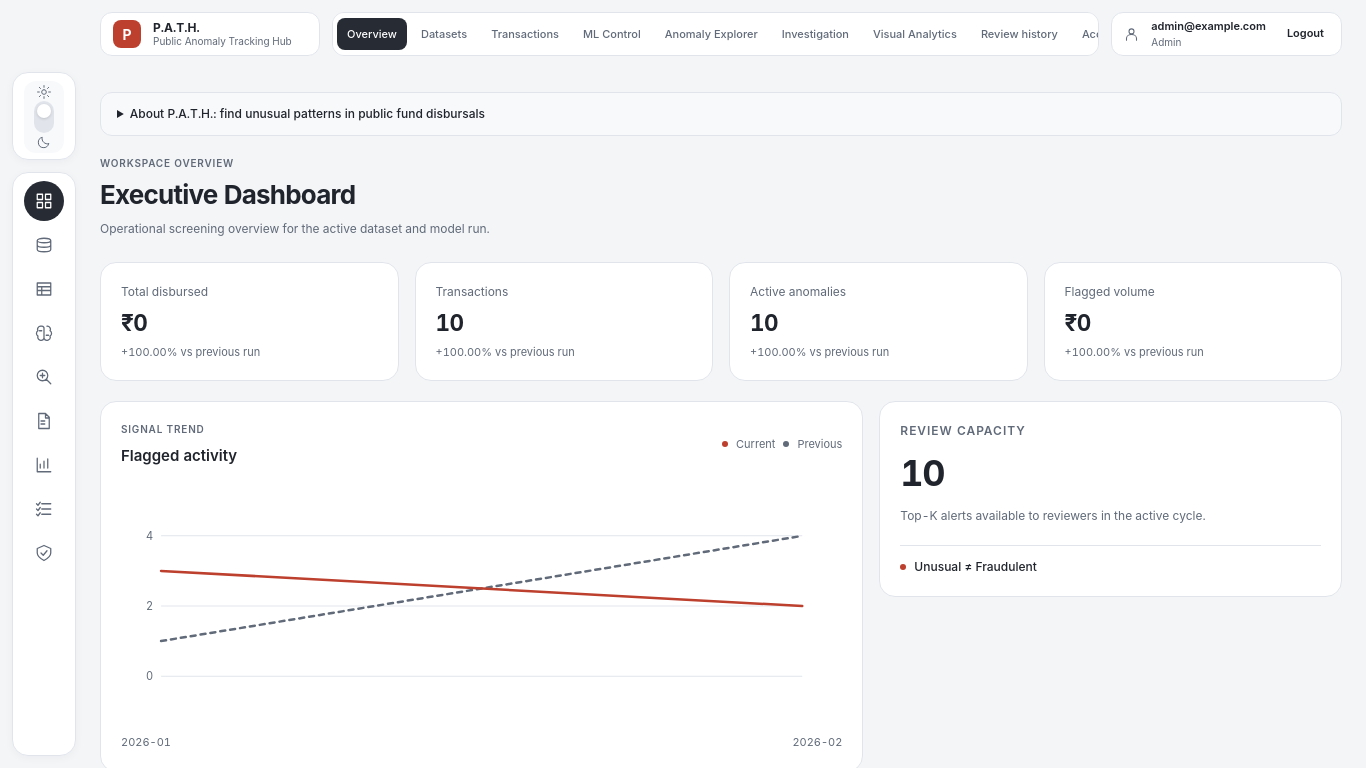
Test: real application flows with mocked HTTP boundaries › restores once under StrictMode and navigates through populated analytics views
The image size is (1366, 768).
Expected: the text "+100.00% vs previous run" is shown 4 times, [121,344,260,358]; [436,344,575,358]; [750,344,889,358]; [1064,344,1204,358]
Click the link "Visual Analytics" at point(915, 34), box [873,27,957,41]
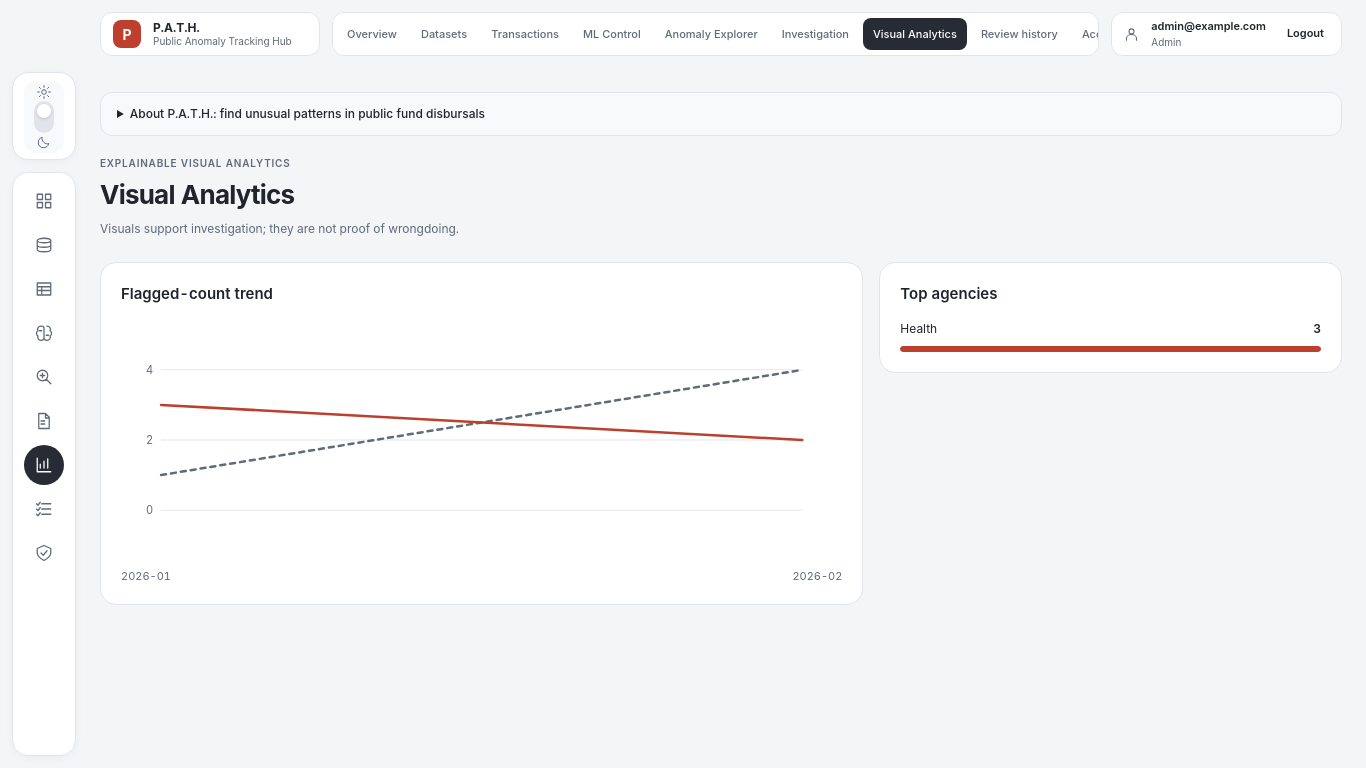
Expected: the text "Health" is shown, [900,320,937,336]
Click the link "Review history" at point(1019, 34), box [981,27,1058,41]
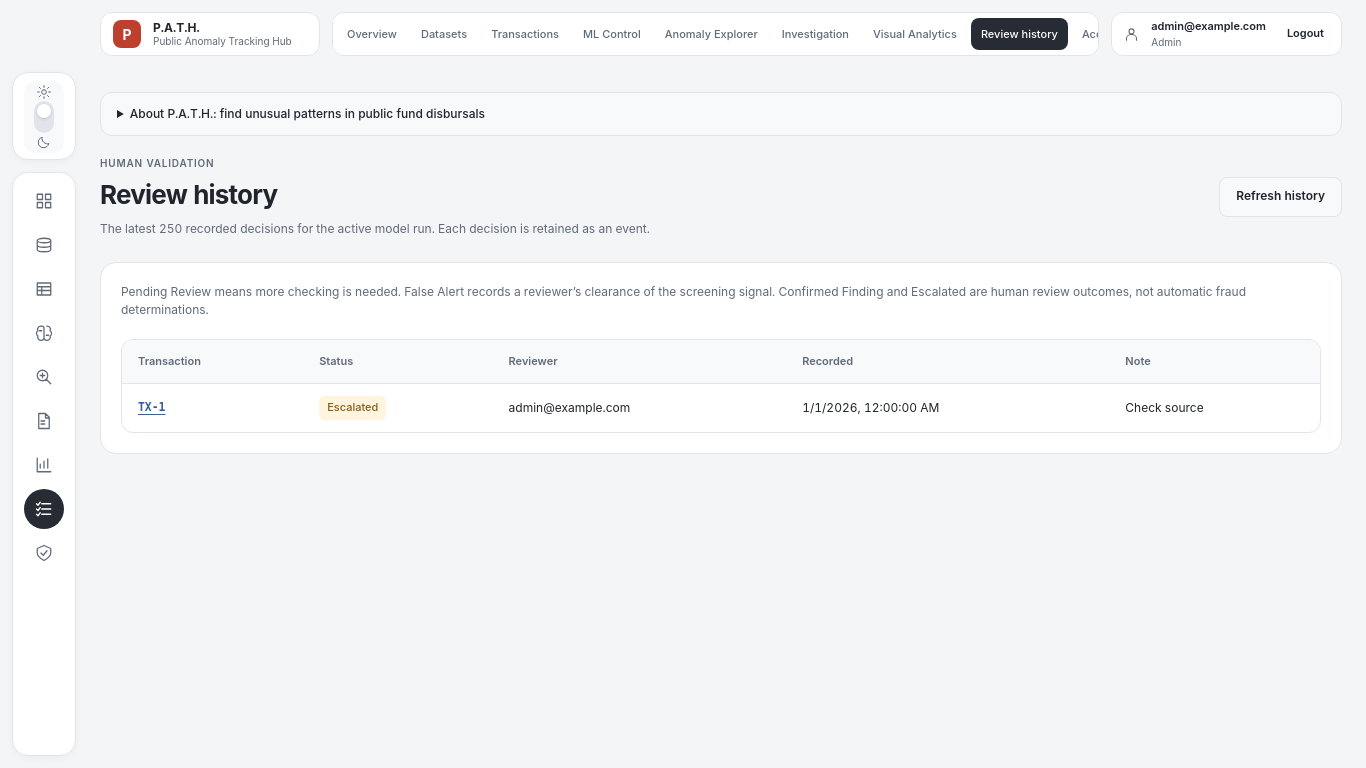
Result: the text "Check source" is shown at [1109,384,1320,432]
Click the link "Investigation" at point(815, 34), box [782,27,849,41]
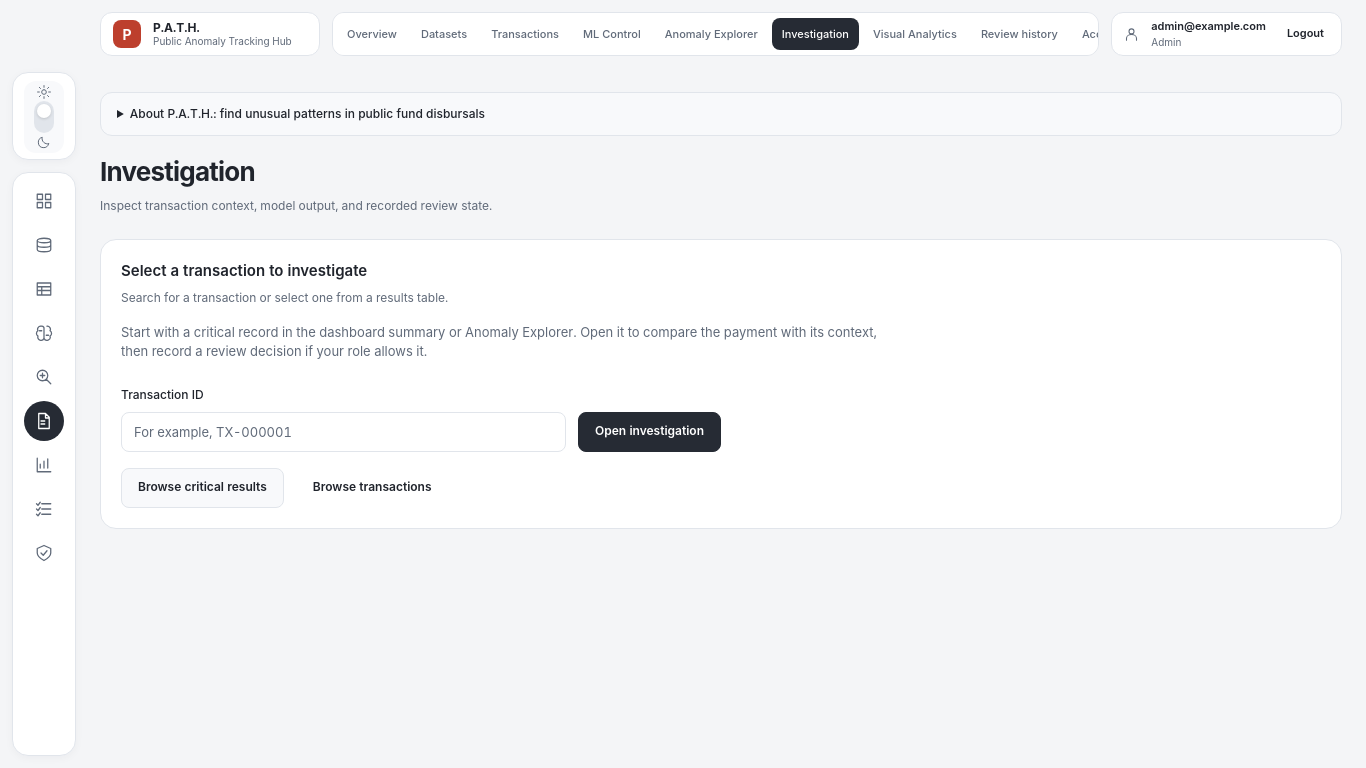
Result: the text "Search for a transaction or select one from a results table." is shown at [121,290,448,304]
Click the link "Transactions" at point(525, 34), box [491,27,559,41]
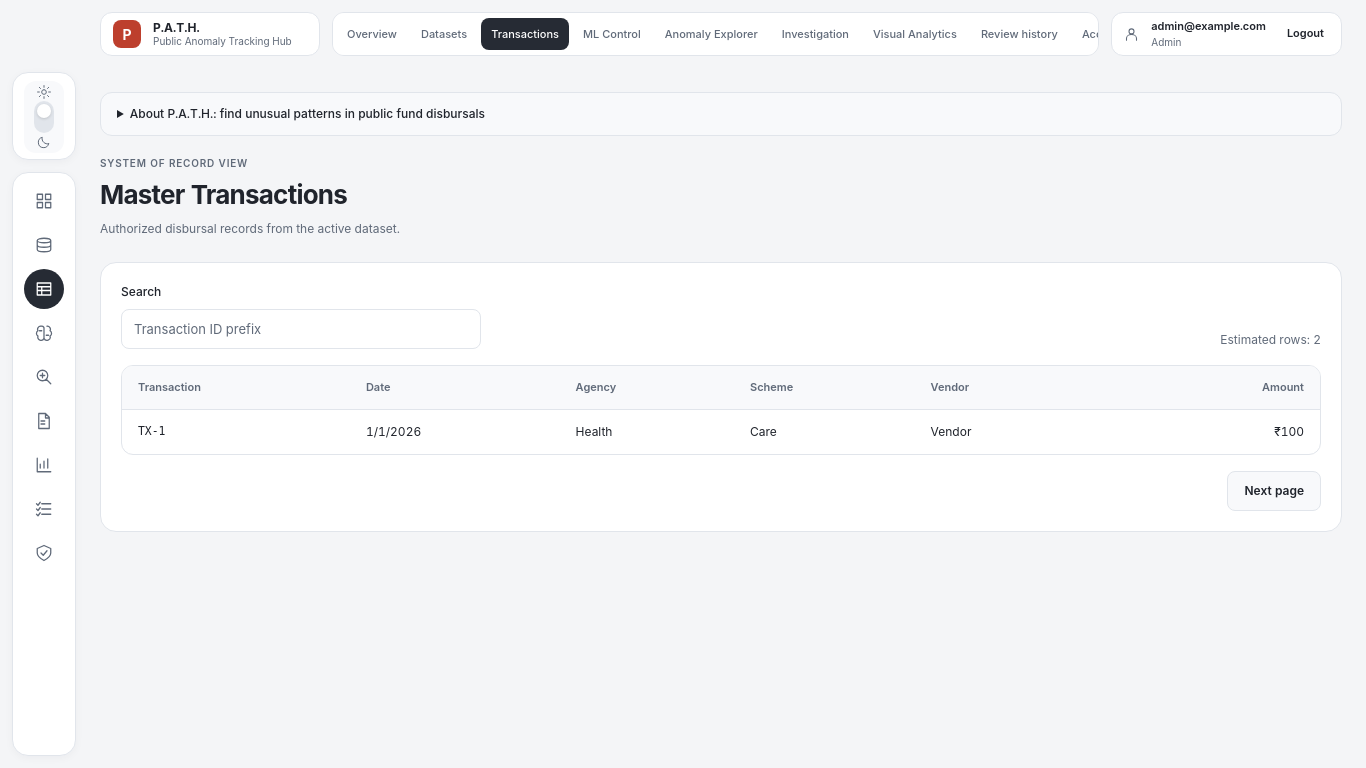
Click the text "TX-1" at point(152, 431), box [122,410,350,454]
(page scrolled)
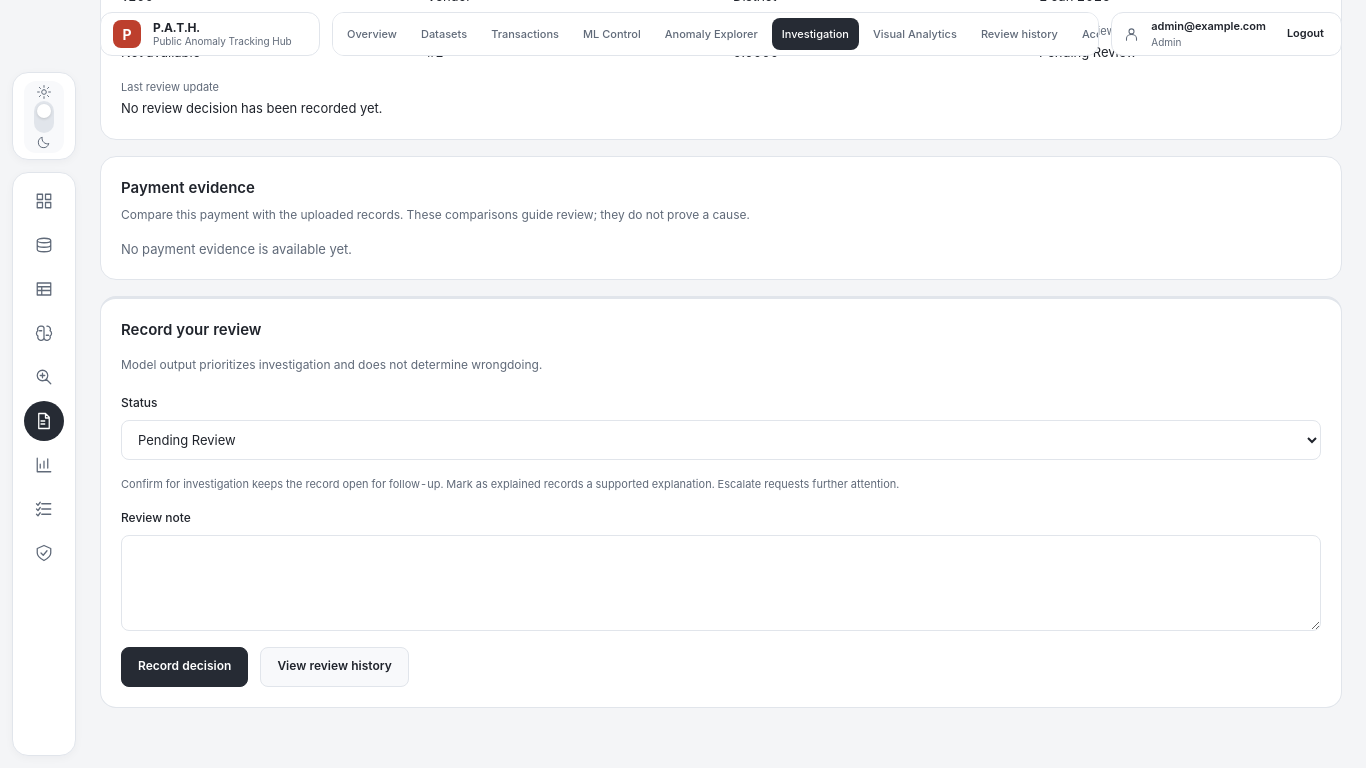
Select "Escalate" in the dropdown labelled "Status" at point(721, 440), box [121,420,1321,460]
Type "Inspect records" into the text box labelled "Review note" at point(721, 582), box [121,534,1321,630]
Click the button "Record decision" at point(185, 666), box [121,646,248,686]
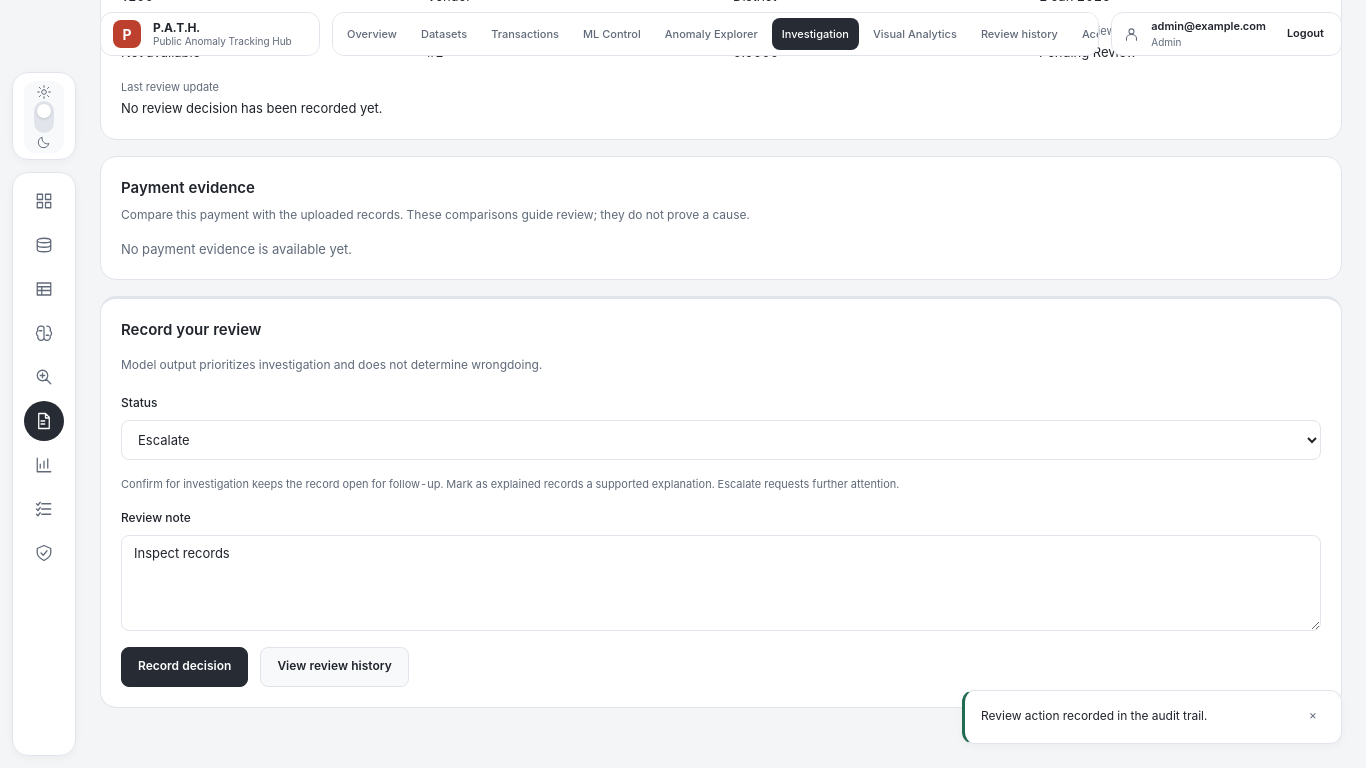
Result: the text "Review action recorded in the audit trail." is shown at [981,707,1207,725]
